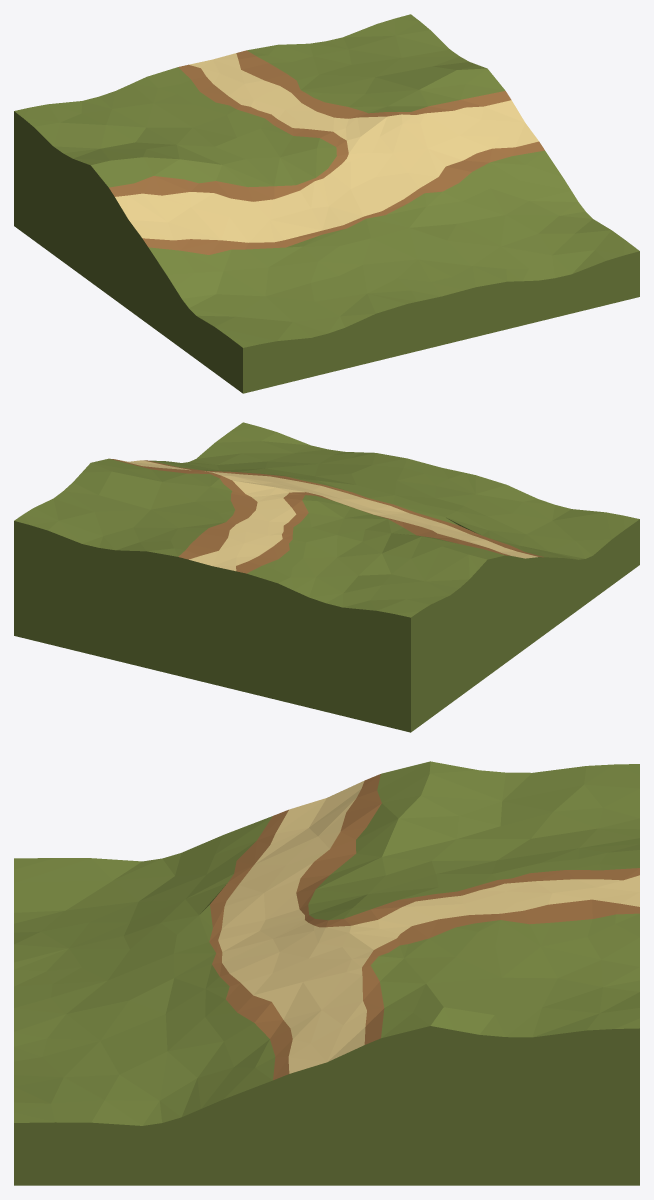
The model's file is Terrian_Road_Int_Hill-05.fbx.
3 renders of one model, top to bottom at view 1: azimuth 30°, elevation 25°; view 2: azimuth 150°, elevation 25°; view 3: azimuth 270°, elevation 25°, orthographic. The views are drawn at different scales.
Visible parts, largest first — view 1: Terrian_Road_Int_Hill-05; view 2: Terrian_Road_Int_Hill-05; view 3: Terrian_Road_Int_Hill-05.
Boxes of the visible parts, x1,y1,x2,y2 form: Terrian_Road_Int_Hill-05: (14,14,639,393); Terrian_Road_Int_Hill-05: (14,422,639,732); Terrian_Road_Int_Hill-05: (14,761,639,1185).
Size of the model in its own units: 3600 by 1031 by 3600.
Materials: 1 (1 with a texture image).
